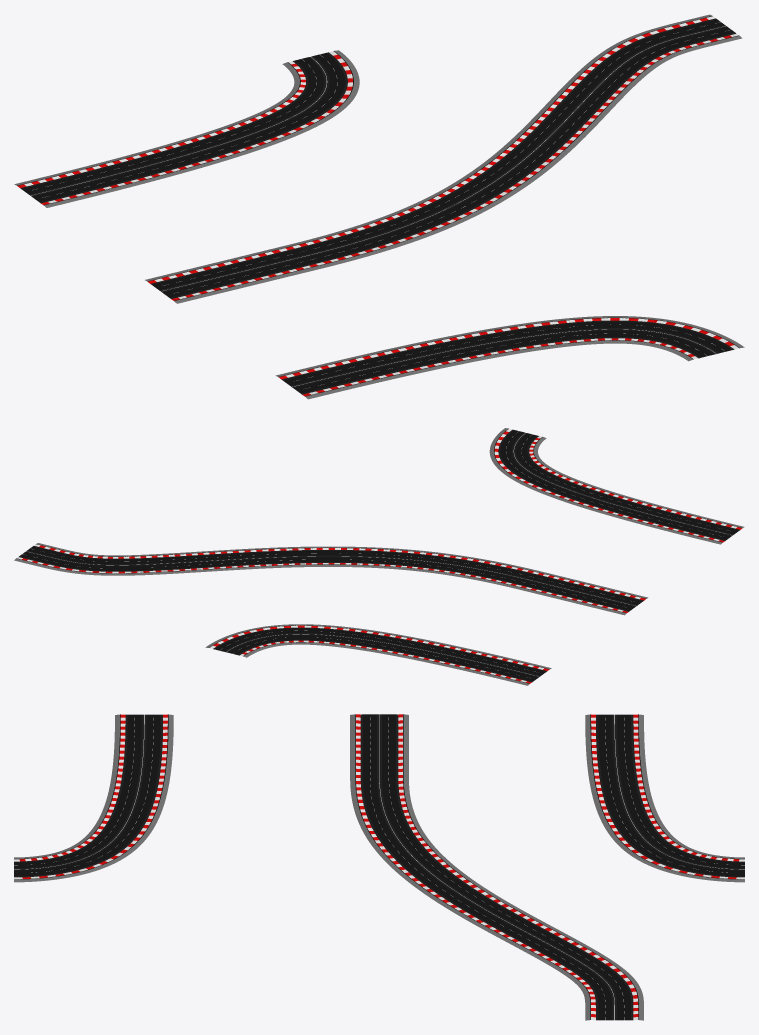
The model's file is S0.1c3-2l1-3r1-triway.glb.
The picture shows the model from 3 angles, top to bottom: view 1: azimuth 30°, elevation 25°; view 2: azimuth 150°, elevation 25°; view 3: azimuth 270°, elevation 25°; orthographic projection. The views are drawn at different scales.
Visible parts, largest first — view 1: Grid.001, Grid.002, Grid; view 2: Grid.001, Grid.002, Grid; view 3: Grid.001, Grid, Grid.002.
Part boxes in pixels (x1,y1,x2,y2): Grid.001: (145, 14, 742, 303); Grid.002: (14, 50, 359, 207); Grid: (275, 316, 744, 399); Grid.001: (14, 543, 648, 615); Grid.002: (205, 624, 551, 685); Grid: (489, 428, 744, 544); Grid.001: (350, 714, 643, 1020); Grid: (14, 714, 173, 882); Grid.002: (585, 714, 744, 882).
Size of the model in its own units: 308 by 0.31 by 311.
